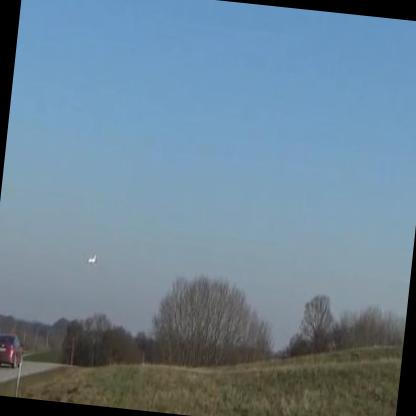plane: (88, 253, 97, 266)
